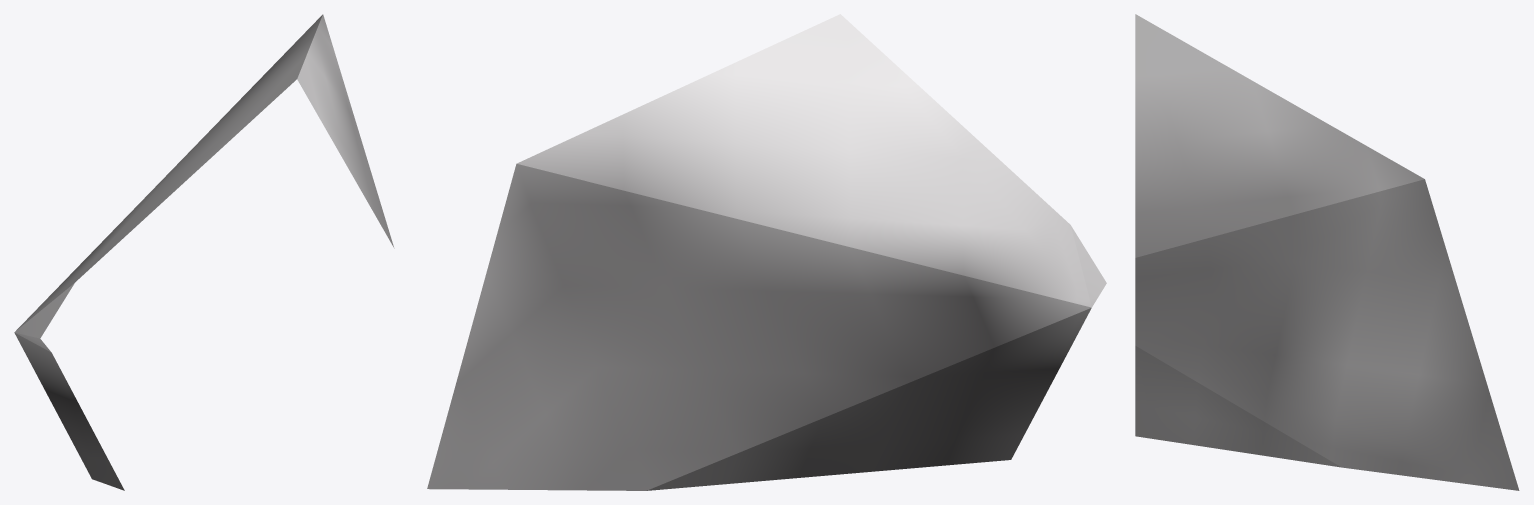
The picture shows the model from 3 angles, left to right: view 1: azimuth 30°, elevation 25°; view 2: azimuth 150°, elevation 25°; view 3: azimuth 270°, elevation 25°; orthographic projection. The views are drawn at different scales.
Size of the model in its own units: 0.021 by 0.0158 by 0.0147.
1 material, 1 textured.
